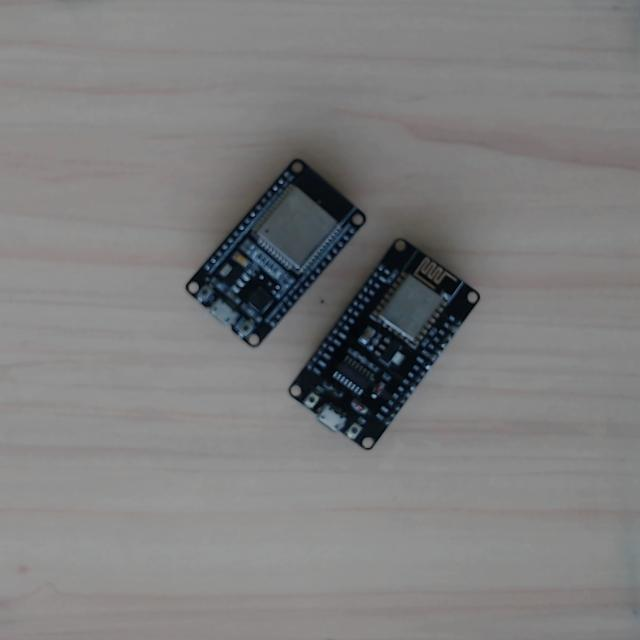ESP32-DevKit: (181, 156, 369, 351)
ESP8266-NodeMCU: (282, 234, 483, 456)
